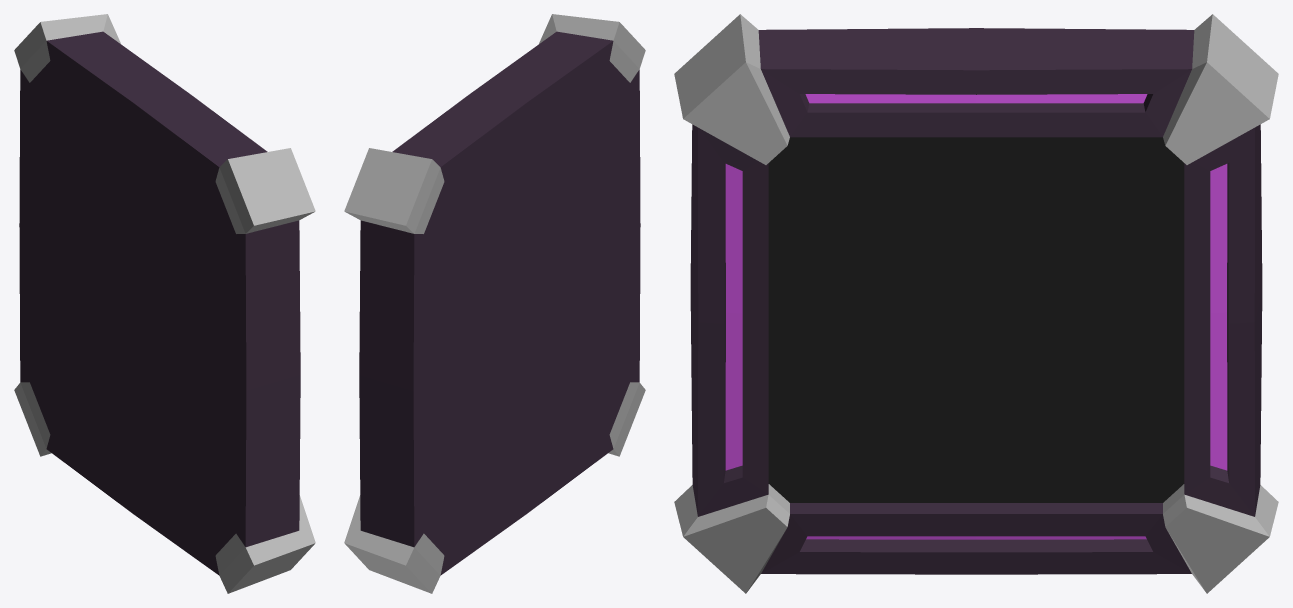
File: monitor.fbx
3 views of the same model, side by side, from view 1: azimuth 30°, elevation 25°; view 2: azimuth 150°, elevation 25°; view 3: azimuth 270°, elevation 25° (orthographic). The views are drawn at different scales.
Parts seen in each view (by area): view 1: Cube.003; view 2: Cube.003; view 3: Cube.003.
Part boxes in pixels (bbox=[...]): Cube.003: bbox=[14, 14, 315, 593]; Cube.003: bbox=[344, 14, 645, 593]; Cube.003: bbox=[674, 14, 1278, 593].
Size of the model in its own units: 44.91 by 233 by 233.
1 material, 1 textured.
